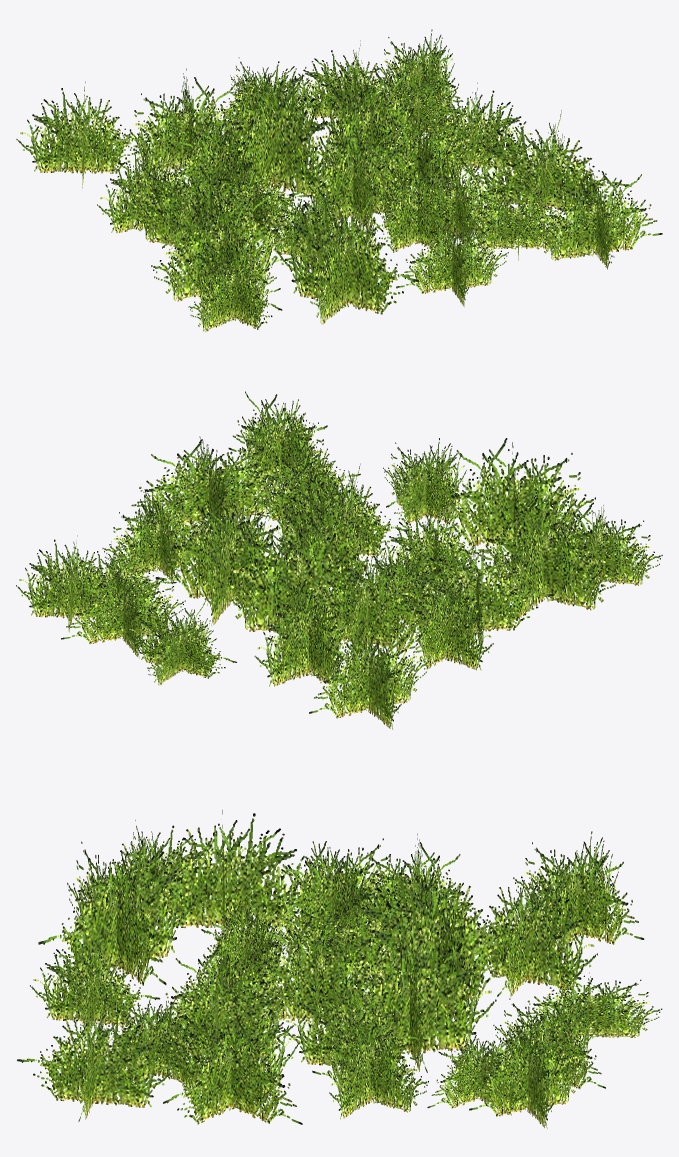
File: meadow-patch.glb
3 views of the same model, one above another, from view 1: azimuth 30°, elevation 25°; view 2: azimuth 150°, elevation 25°; view 3: azimuth 270°, elevation 25° (orthographic). The views are drawn at different scales.
Bounding box in the file's own units: 5.24 × 1.31 × 5.62.
1 material, 1 textured.
